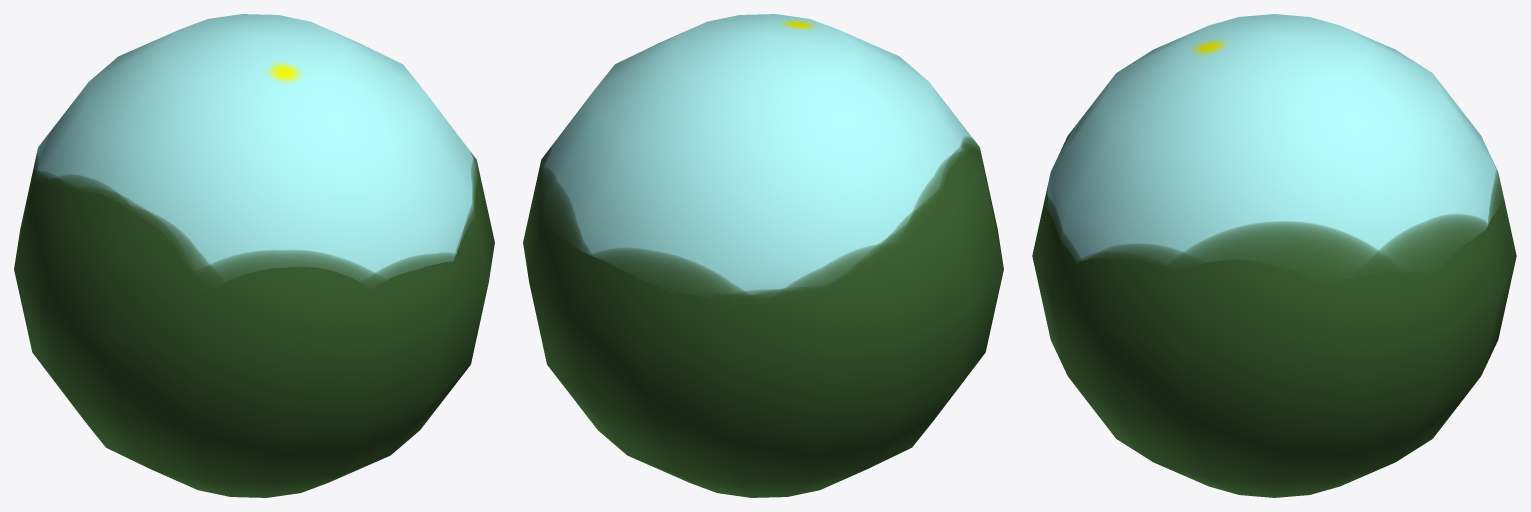
Rendered from skydome.obj.
3 renders of one model, left to right at view 1: azimuth 30°, elevation 25°; view 2: azimuth 150°, elevation 25°; view 3: azimuth 270°, elevation 25°, orthographic.
Visible parts, largest first — view 1: 球; view 2: 球; view 3: 球.
Boxes of the visible parts, left/top/right/bottom form: 球: left=14, top=14, right=494, bottom=497; 球: left=523, top=14, right=1003, bottom=497; 球: left=1032, top=14, right=1516, bottom=497.
Bounding box in the file's own units: 1000 × 1000 × 1000.
Materials: 1 (1 with a texture image).
